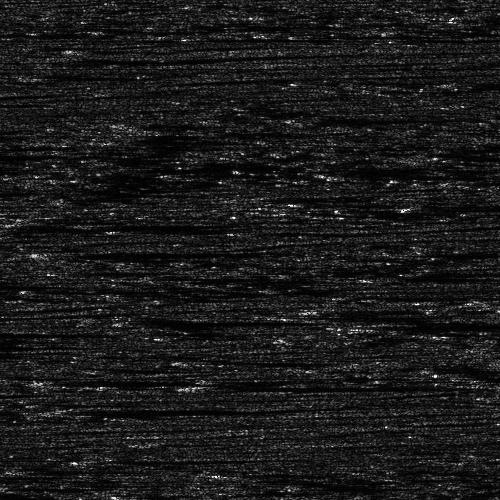rock: (59, 316, 152, 327), (329, 320, 392, 329), (47, 408, 100, 415), (253, 193, 294, 200), (378, 205, 419, 210), (0, 222, 28, 229), (52, 247, 63, 256), (442, 179, 463, 182)
shadow: (58, 247, 246, 256), (106, 316, 252, 327), (0, 222, 205, 229), (361, 320, 500, 329), (74, 408, 222, 415), (47, 378, 335, 381), (274, 193, 375, 200), (0, 330, 89, 337), (399, 205, 500, 210), (453, 179, 500, 182)
